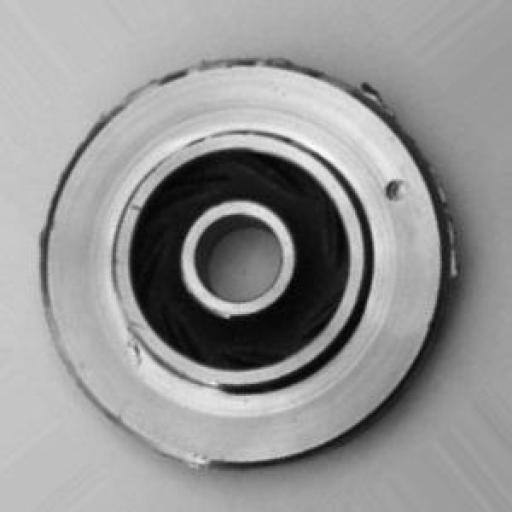defect: (42, 32, 476, 482)
